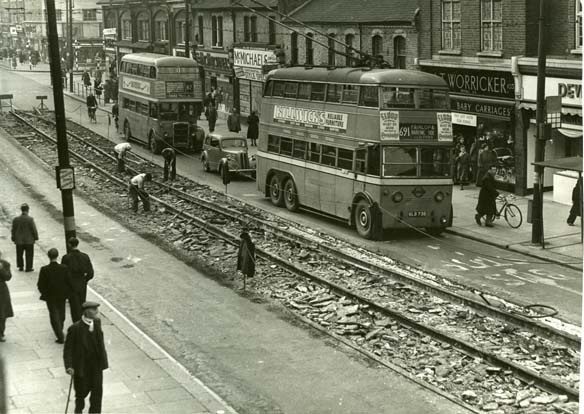non-vehicle: (491, 194, 522, 228), (88, 107, 97, 124)
